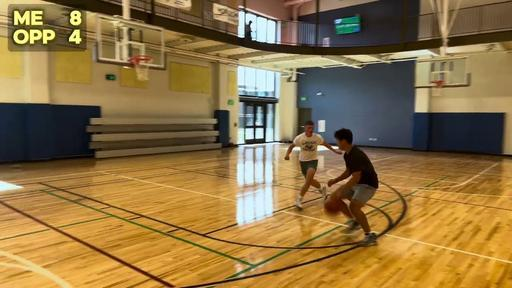ball: (323, 197, 341, 214)
human: (328, 128, 378, 246), (284, 120, 342, 210)
rim: (134, 57, 153, 82), (432, 80, 444, 92)
